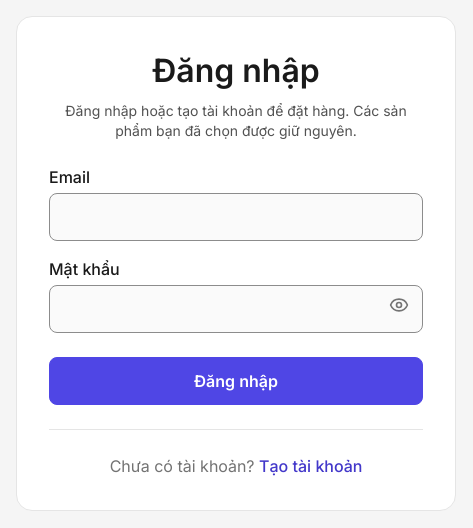
LoginPage › submit_switchesToConfirmEmailAndResendsCode_whenAccountNotConfirmed
Type "an@example.com" into the field labelled "Email" at point(236, 217), box [49,193,423,241]
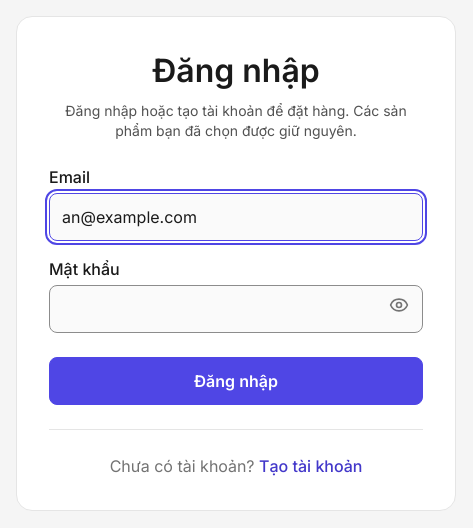
Type "Abcdef1!" into the password field labelled "Mật khẩu" at point(236, 309), box [49,285,423,333]
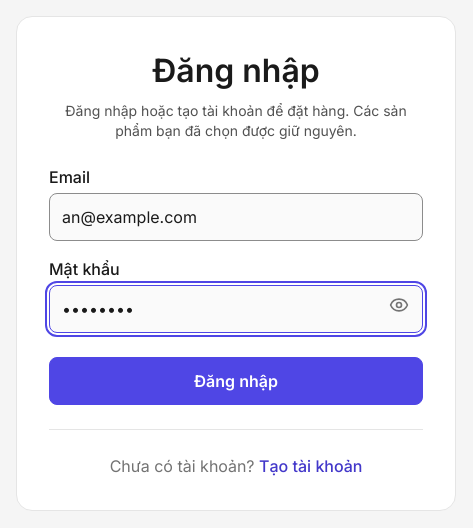
Click the button "Đăng nhập" at point(236, 381), box [49,357,423,405]
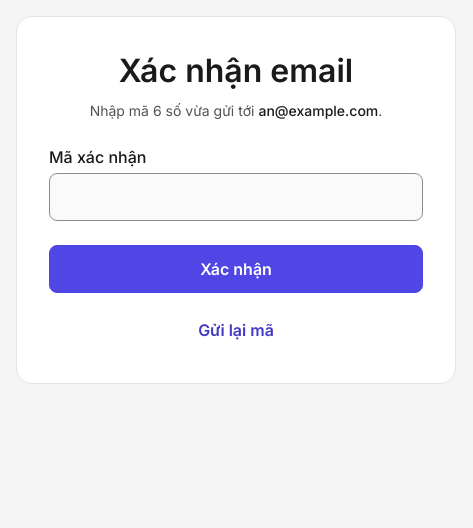
Check: the heading "Xác nhận email" is shown, box [119,51,353,90]
